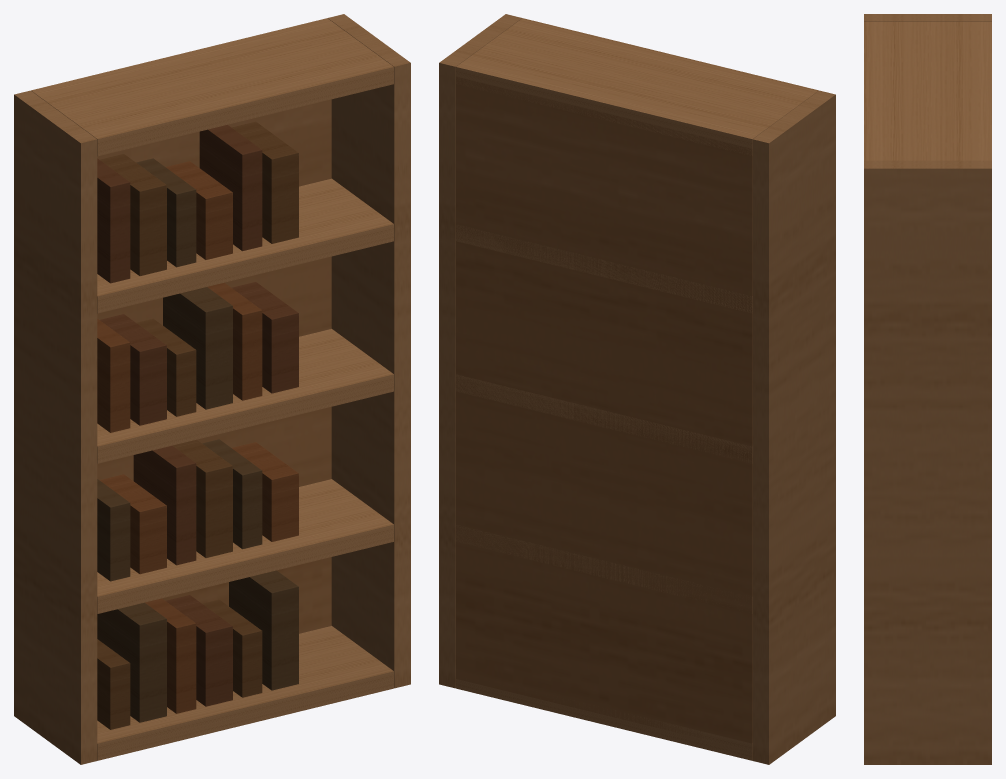
Rendered from bookshelf.glb.
3 views of the same model, side by side, from view 1: azimuth 30°, elevation 25°; view 2: azimuth 150°, elevation 25°; view 3: azimuth 270°, elevation 25° (orthographic). The views are drawn at different scales.
Visible parts, largest first — view 1: home_bookshelf; view 2: home_bookshelf; view 3: home_bookshelf.
Boxes of the visible parts, x1,y1,x2,y2 form: home_bookshelf: (14,14,410,764); home_bookshelf: (439,14,835,764); home_bookshelf: (864,14,991,764).
Bounding box in the file's own units: 1 × 1.8 × 0.35.
Materials: 1 (1 with a texture image).
